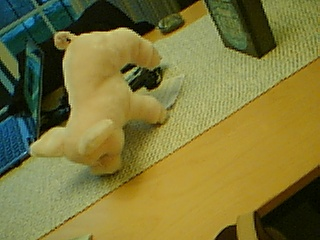piggy: (26, 26, 170, 177)
